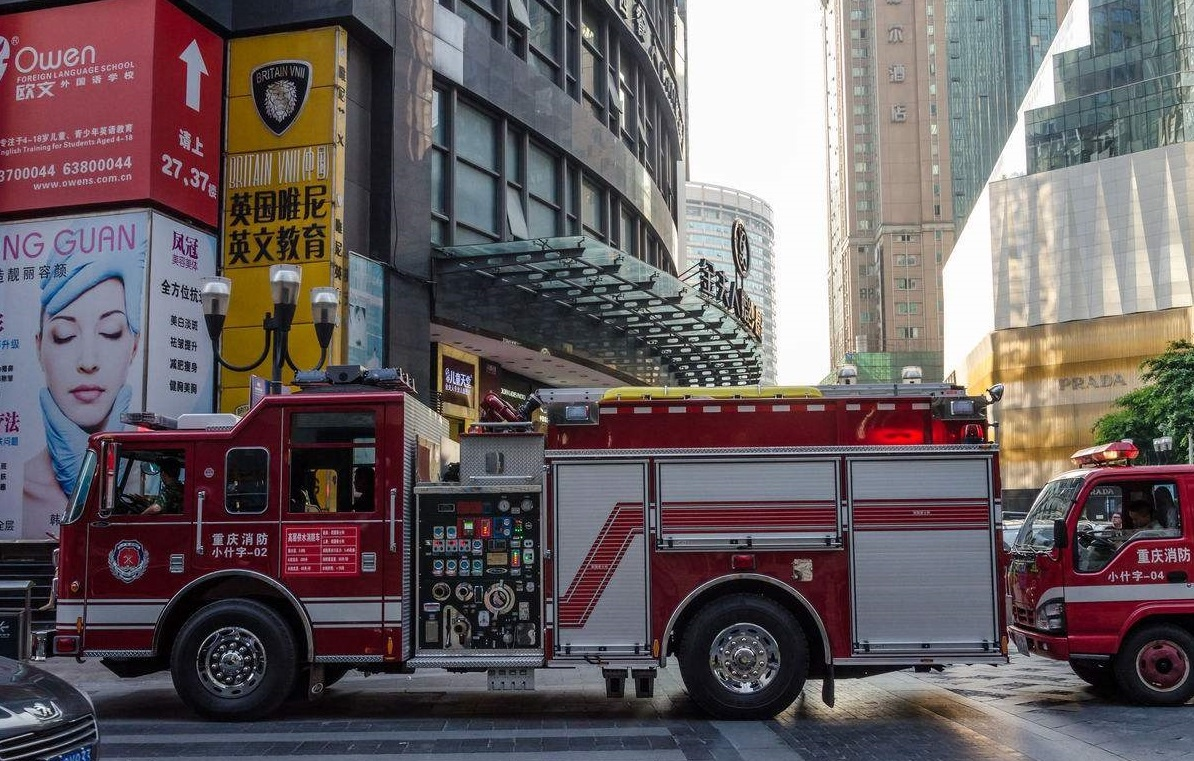fire engine: (44, 370, 1025, 704)
